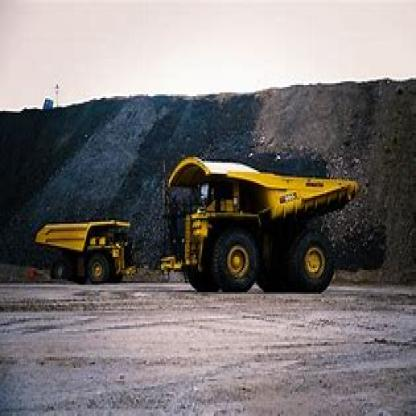dump_truck: (160, 146, 359, 300), (37, 213, 132, 290)
